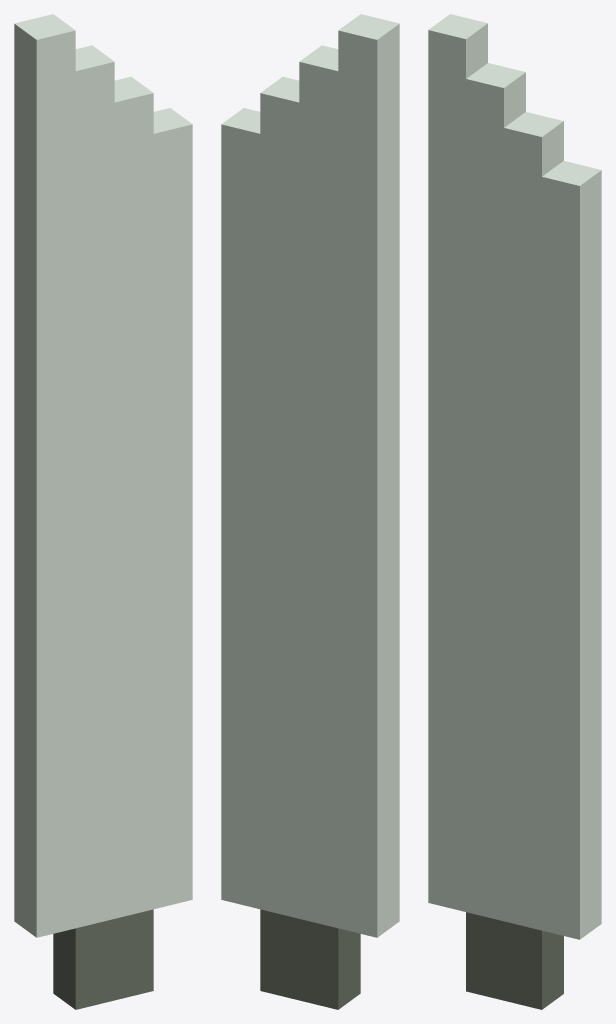
The model's file is DullBlade.obj.
The picture shows the model from 3 angles, left to right: view 1: azimuth 30°, elevation 25°; view 2: azimuth 150°, elevation 25°; view 3: azimuth 330°, elevation 25°; orthographic projection. The views are drawn at different scales.
Visible parts, largest first — view 1: DullBlade; view 2: DullBlade; view 3: DullBlade.
Part boxes in pixels (x1=…): DullBlade: x1=14, y1=14, x2=192, y2=1009; DullBlade: x1=221, y1=14, x2=399, y2=1009; DullBlade: x1=428, y1=14, x2=601, y2=1009.
Bounding box in the file's own units: 0.4 × 2.4 × 0.1.
